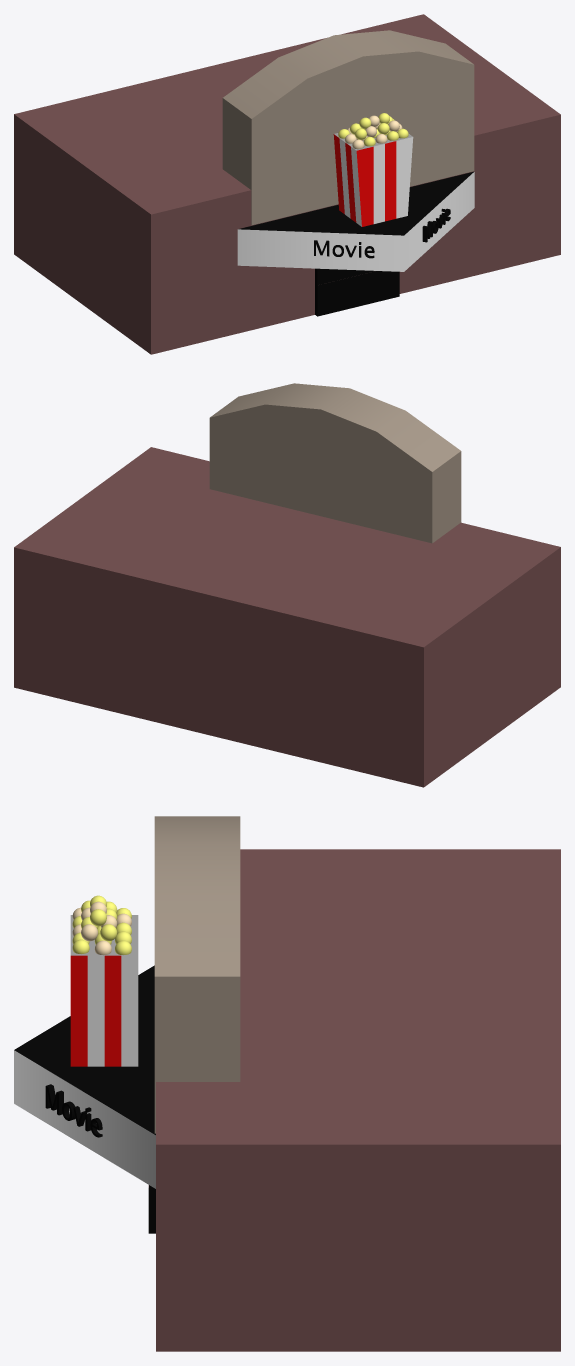
File: movieTheater.fbx
3 renders of one model, top to bottom at view 1: azimuth 30°, elevation 25°; view 2: azimuth 150°, elevation 25°; view 3: azimuth 270°, elevation 25°, orthographic. The views are drawn at different scales.
Visible parts, largest first — view 1: pCube5; view 2: pCube5; view 3: pCube5.
Boxes of the visible parts, x1,y1,x2,y2 form: pCube5: (14,14,560,354); pCube5: (14,383,560,787); pCube5: (14,816,560,1351).
Size of the model in its own units: 1.73 by 0.9938 by 1.35.
